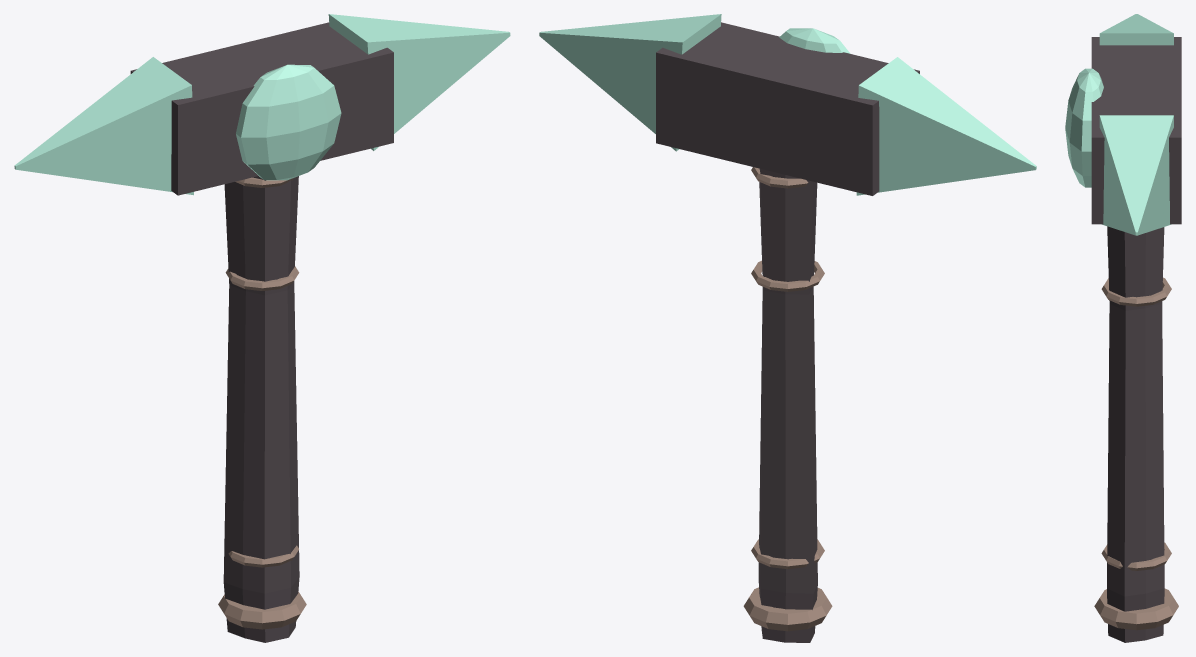
Rendered from BH_PICK_P15_Picareta_Veu_das_Almas_V01.glb.
The picture shows the model from 3 angles, left to right: view 1: azimuth 30°, elevation 25°; view 2: azimuth 150°, elevation 25°; view 3: azimuth 270°, elevation 25°; orthographic projection. The views are drawn at different scales.
Parts seen in each view (by area): view 1: Handle | shaped shaft.001, Head | main crossbar.001, Head | mining tooth L.001, Core | socket gem.001, Head | mining tooth R.001, Handle | pommel.001, Handle | binding 3.001; view 2: Head | main crossbar.001, Handle | shaped shaft.001, Head | mining tooth L.001, Head | mining tooth R.001, Handle | pommel.001, Core | socket gem.001, Handle | binding 3.001, Handle | binding 1.001; view 3: Handle | shaped shaft.001, Head | main crossbar.001, Head | mining tooth R.001, Core | socket gem.001, Handle | pommel.001, Head | mining tooth L.001, Handle | binding 3.001, Handle | binding 1.001.
Boxes of the visible parts, x1,y1,x2,y2 form: Handle | shaped shaft.001: (223,176,299,642); Head | main crossbar.001: (130,22,393,195); Head | mining tooth L.001: (14,57,193,195); Core | socket gem.001: (236,64,341,180); Head | mining tooth R.001: (328,14,510,150); Handle | pommel.001: (218,591,306,629); Handle | binding 3.001: (225,266,299,290); Head | main crossbar.001: (656,22,919,195); Handle | shaped shaft.001: (758,168,817,642); Head | mining tooth L.001: (856,57,1036,195); Head | mining tooth R.001: (539,14,721,151); Handle | pommel.001: (743,587,832,631); Core | socket gem.001: (779,28,850,53); Handle | binding 3.001: (751,260,824,291); Handle | binding 1.001: (751,539,824,569); Handle | shaped shaft.001: (1107,226,1164,642); Head | main crossbar.001: (1091,37,1181,224); Head | mining tooth R.001: (1099,115,1173,235); Core | socket gem.001: (1065,68,1103,187); Handle | pommel.001: (1094,588,1178,630); Head | mining tooth L.001: (1099,14,1173,45); Handle | binding 3.001: (1101,277,1171,306); Handle | binding 1.001: (1101,542,1171,570).
Bounding box in the file's own units: 2.06 × 2.32 × 0.44.
